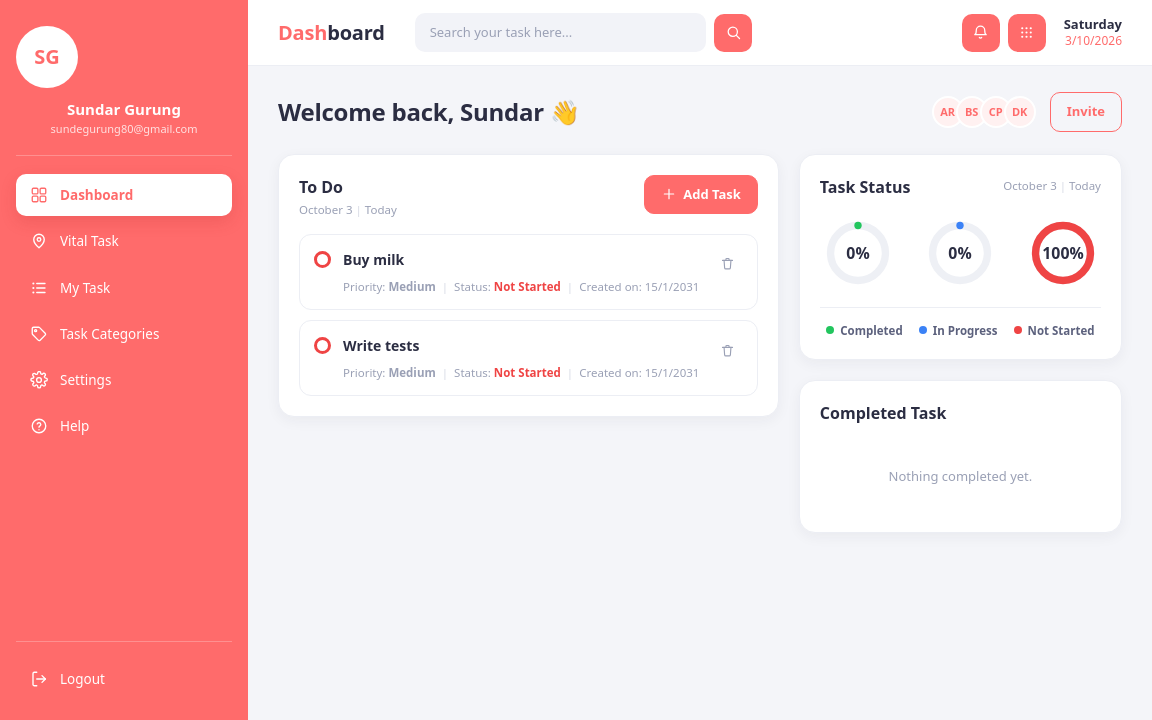
Test: search, delete and errors › asks the server for a search once the debounce settles
The image size is (1152, 720).
Expected: the heading "Buy milk" is shown, [343,250,404,269]
Type "tests" into the search field labelled "Search your task here".
click(560, 33); type("tests")  # box [415,13,706,52]
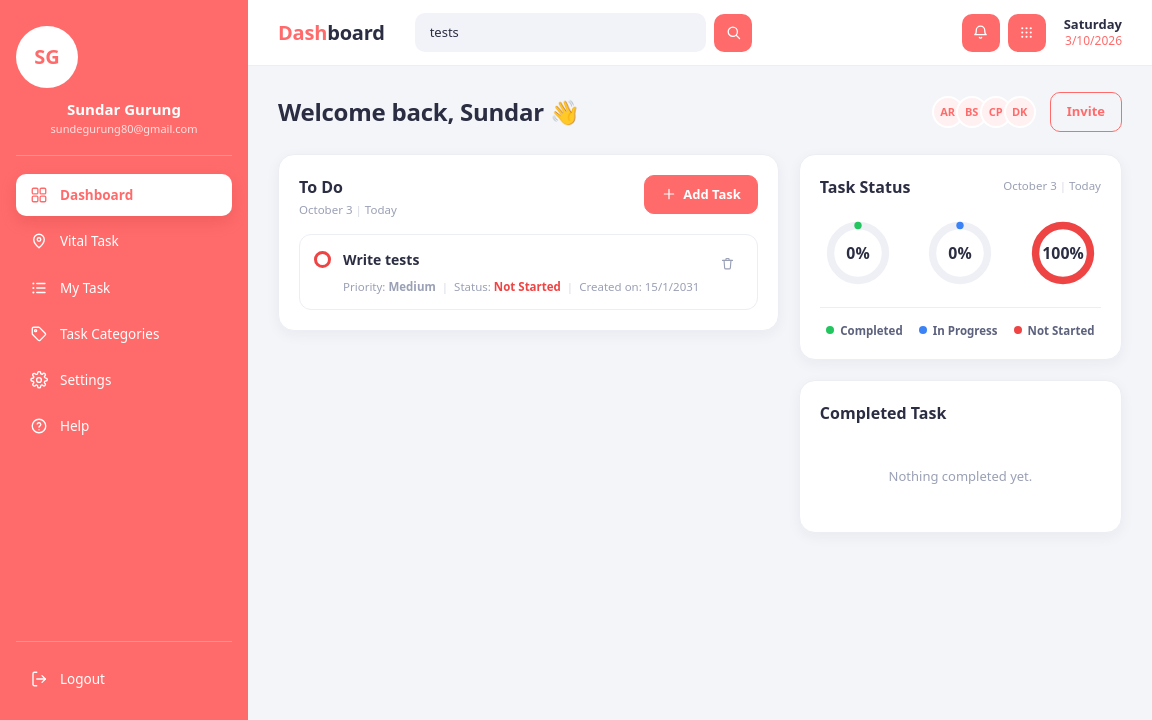
Result: the heading "Buy milk" is gone
